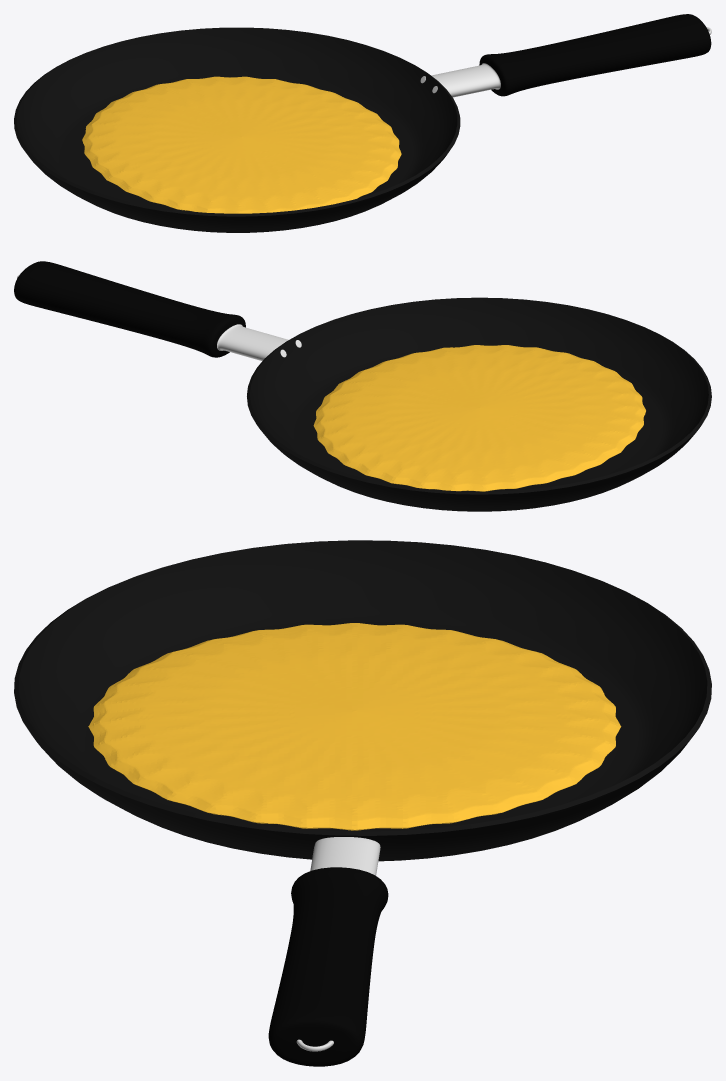
Rendered from OvosMexidosPan 1.fbx.
The picture shows the model from 3 angles, top to bottom: view 1: azimuth 30°, elevation 25°; view 2: azimuth 150°, elevation 25°; view 3: azimuth 270°, elevation 25°; orthographic projection. The views are drawn at different scales.
Parts seen in each view (by area): view 1: Pan, Cylinder, Cube.001; view 2: Pan, Cylinder, Cube.001; view 3: Pan, Cylinder, Cube.001.
Boxes of the visible parts, x1,y1,x2,y2 form: Pan: [14, 27, 460, 232]; Cylinder: [82, 76, 401, 213]; Cube.001: [431, 14, 711, 97]; Pan: [247, 297, 711, 511]; Cylinder: [313, 345, 645, 491]; Cube.001: [14, 261, 288, 360]; Pan: [14, 540, 711, 861]; Cylinder: [88, 623, 621, 830]; Cube.001: [268, 837, 388, 1066].
Size of the model in its own units: 499 by 31.91 by 296.
